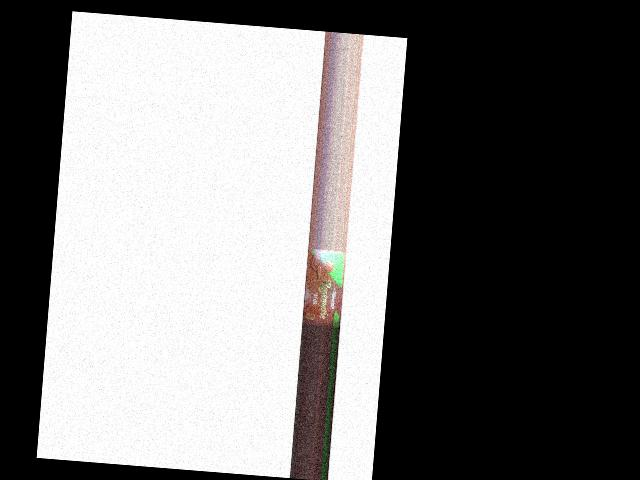chocolate: (302, 249, 344, 329)
